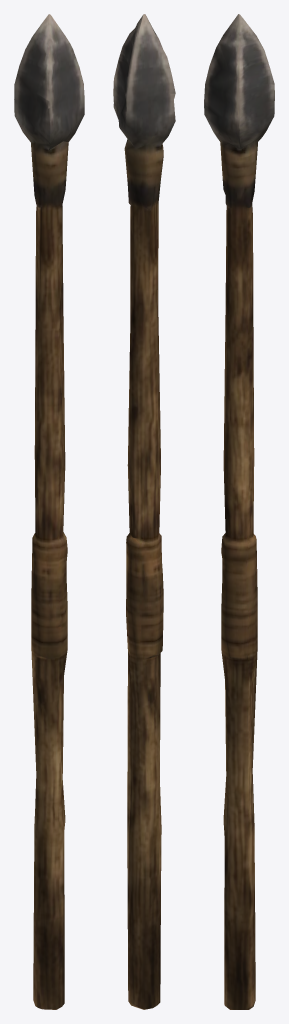
3 renders of one model, left to right at view 1: azimuth 90°, elevation 25°; view 2: azimuth 150°, elevation 25°; view 3: azimuth 270°, elevation 25°, orthographic.
Parts seen in each view (by area): view 1: obsidian-spear; view 2: obsidian-spear; view 3: obsidian-spear.
Part boxes in pixels (bbox=[...]): obsidian-spear: bbox=[14, 14, 84, 1009]; obsidian-spear: bbox=[113, 14, 175, 1009]; obsidian-spear: bbox=[204, 14, 274, 1009].
Size of the model in its own units: 0.1365 by 2.1 by 0.1356.
Materials: 1 (1 with a texture image).
